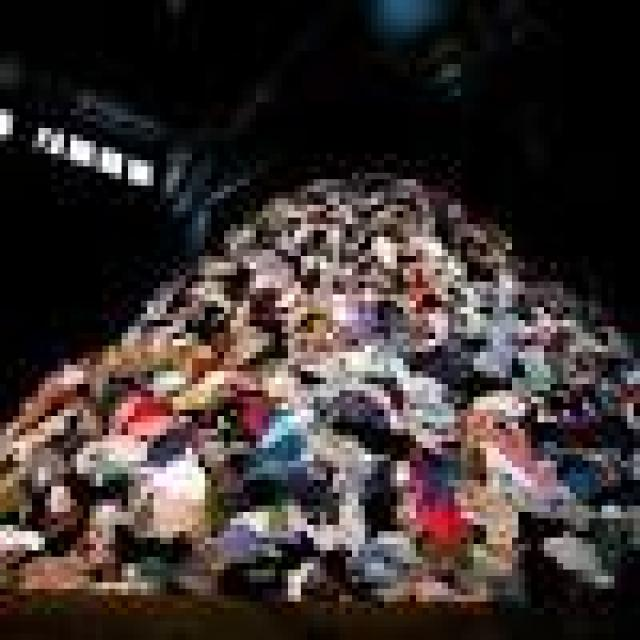Clothes -Biodegradable-: (0, 168, 640, 603)
